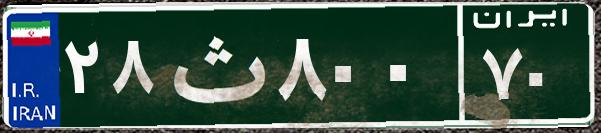0: (385, 28, 445, 110), (330, 28, 385, 110), (525, 38, 570, 115)
2: (57, 26, 110, 107)
7: (475, 38, 525, 113)
8: (273, 28, 330, 110), (110, 28, 158, 105)
ث: (158, 15, 273, 115)
